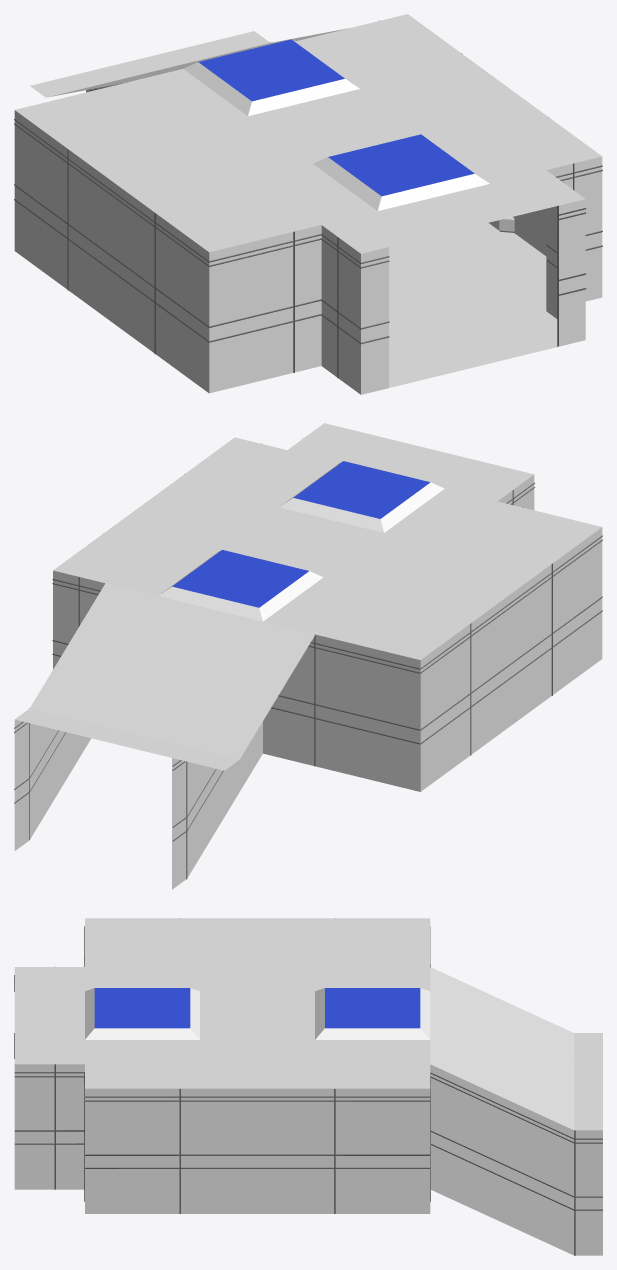
The model's file is StorageRoom.fbx.
3 renders of one model, top to bottom at view 1: azimuth 30°, elevation 25°; view 2: azimuth 150°, elevation 25°; view 3: azimuth 270°, elevation 25°, orthographic. The views are drawn at different scales.
Parts seen in each view (by area): view 1: Storage_Ceiling, Storage_Walls, Storage_Floor; view 2: Storage_Ceiling, Storage_Walls; view 3: Storage_Ceiling, Storage_Walls.
Part boxes in pixels (x1,y1,x2,y2): Storage_Ceiling: [15, 14, 601, 253]; Storage_Walls: [14, 20, 602, 394]; Storage_Floor: [389, 223, 558, 387]; Storage_Ceiling: [15, 423, 601, 770]; Storage_Walls: [14, 438, 602, 889]; Storage_Ceiling: [14, 918, 602, 1130]; Storage_Walls: [14, 918, 602, 1255].
Bounding box in the file's own units: 14.04 × 7.62 × 20.46.
